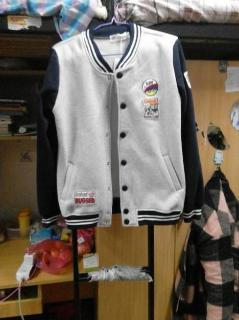long sleeve outwear: (36, 22, 205, 229)
